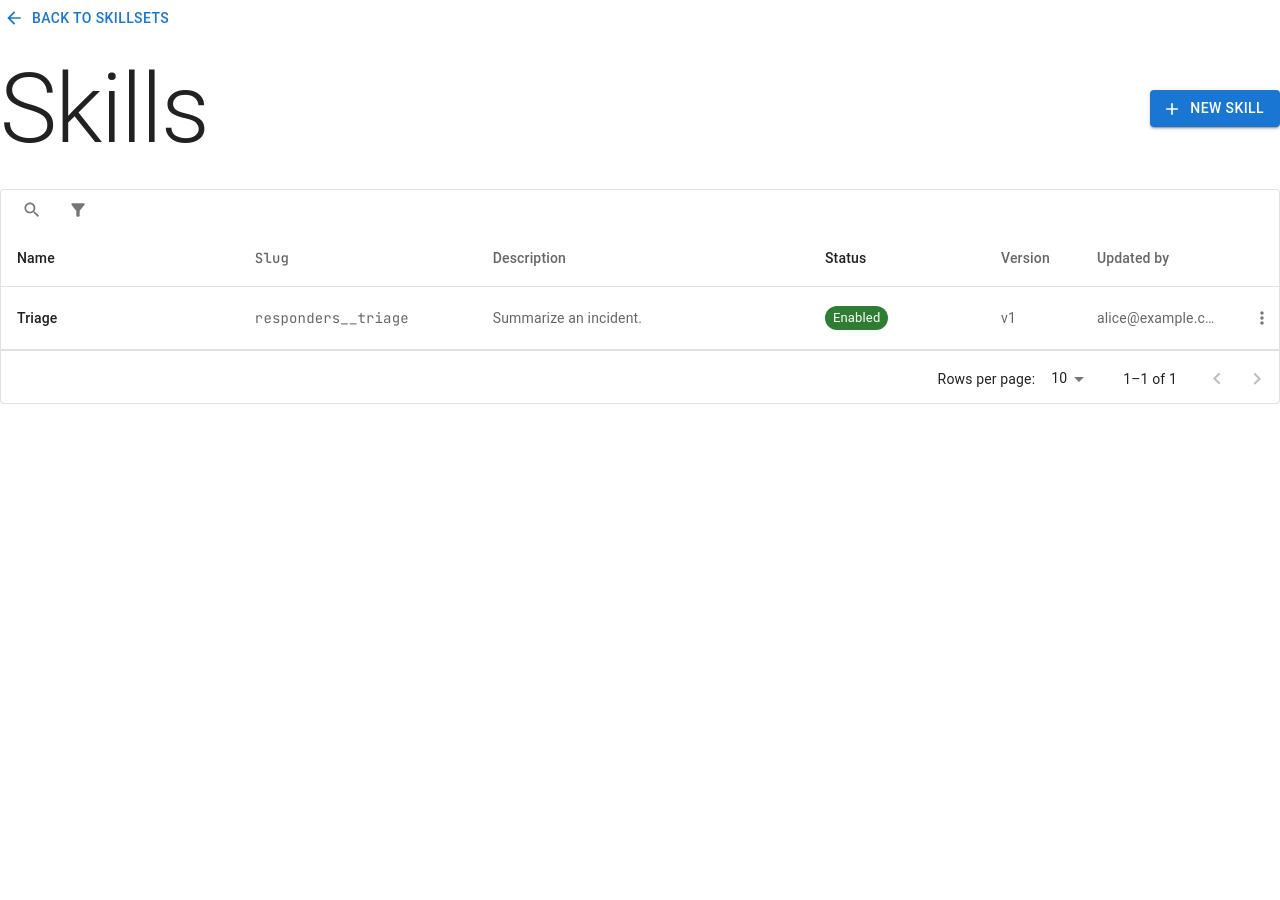
Scenario: SkillsetSkills › switches an edited skill template to raw markdown source
Click the button named "more actions".
click(1262, 318)  # box [1247,302,1277,332]
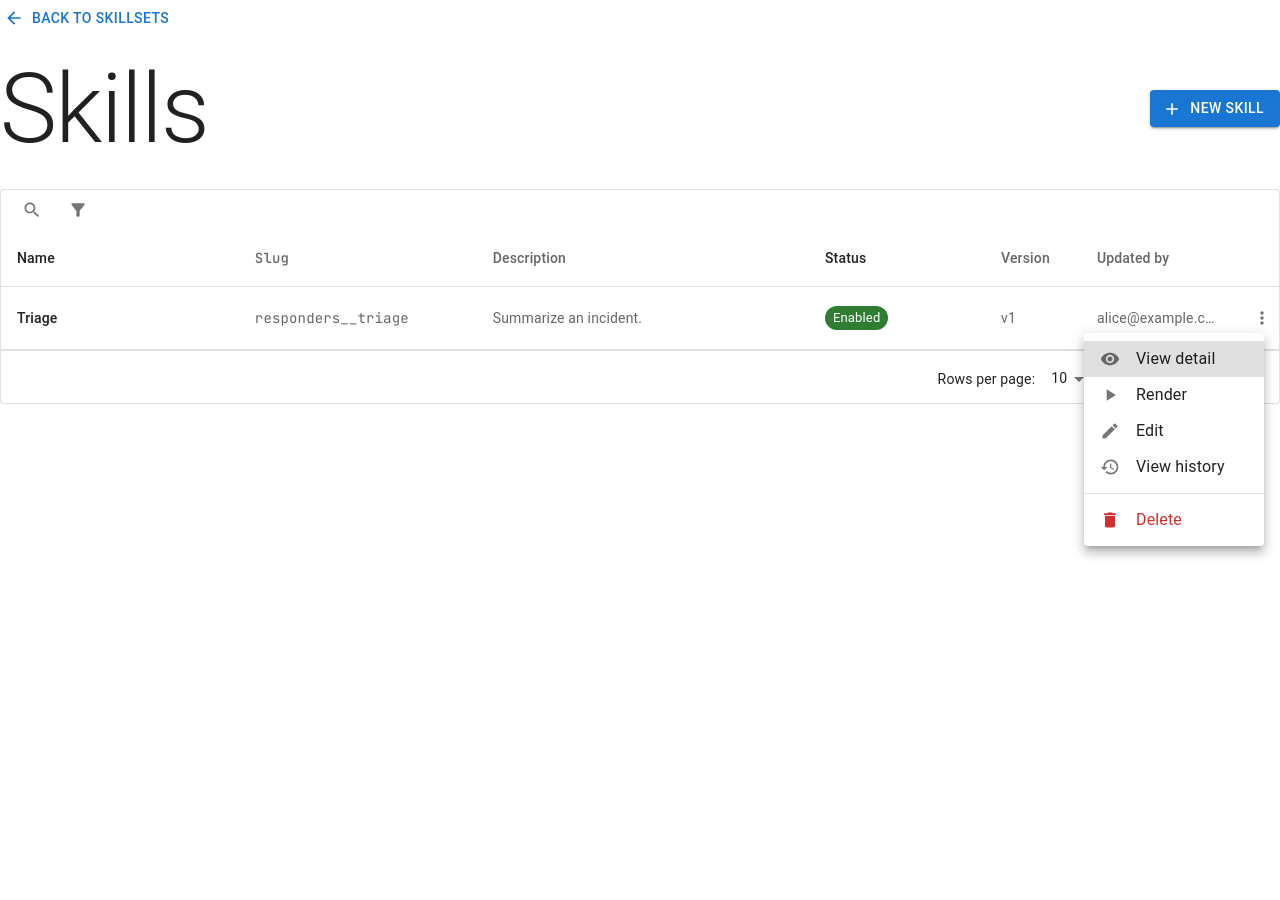
Click the menu item "Edit".
click(1110, 431)  # box [1100,421,1164,441]
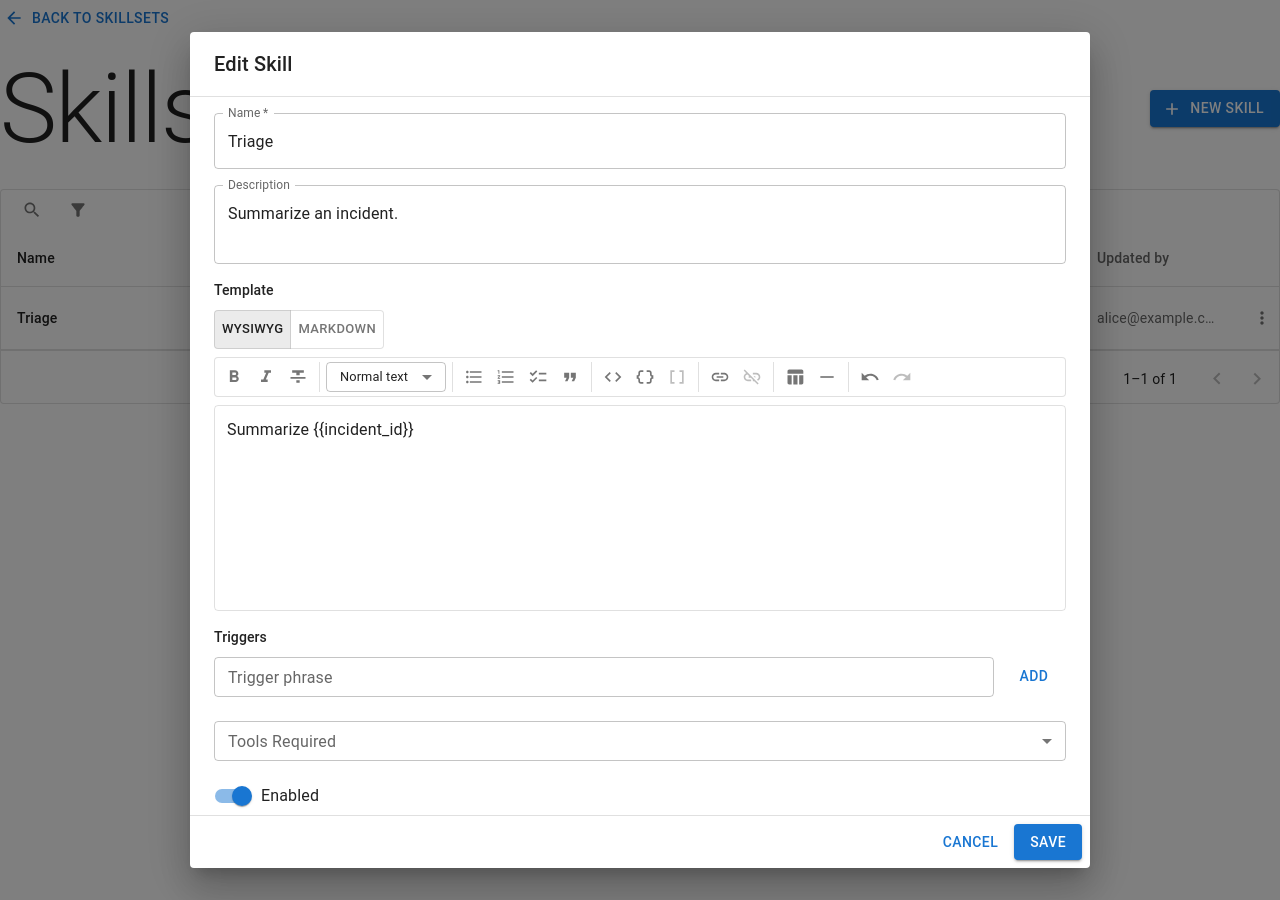
Click the button with aria-label "Markdown source".
click(337, 329)  # box [290,310,384,349]
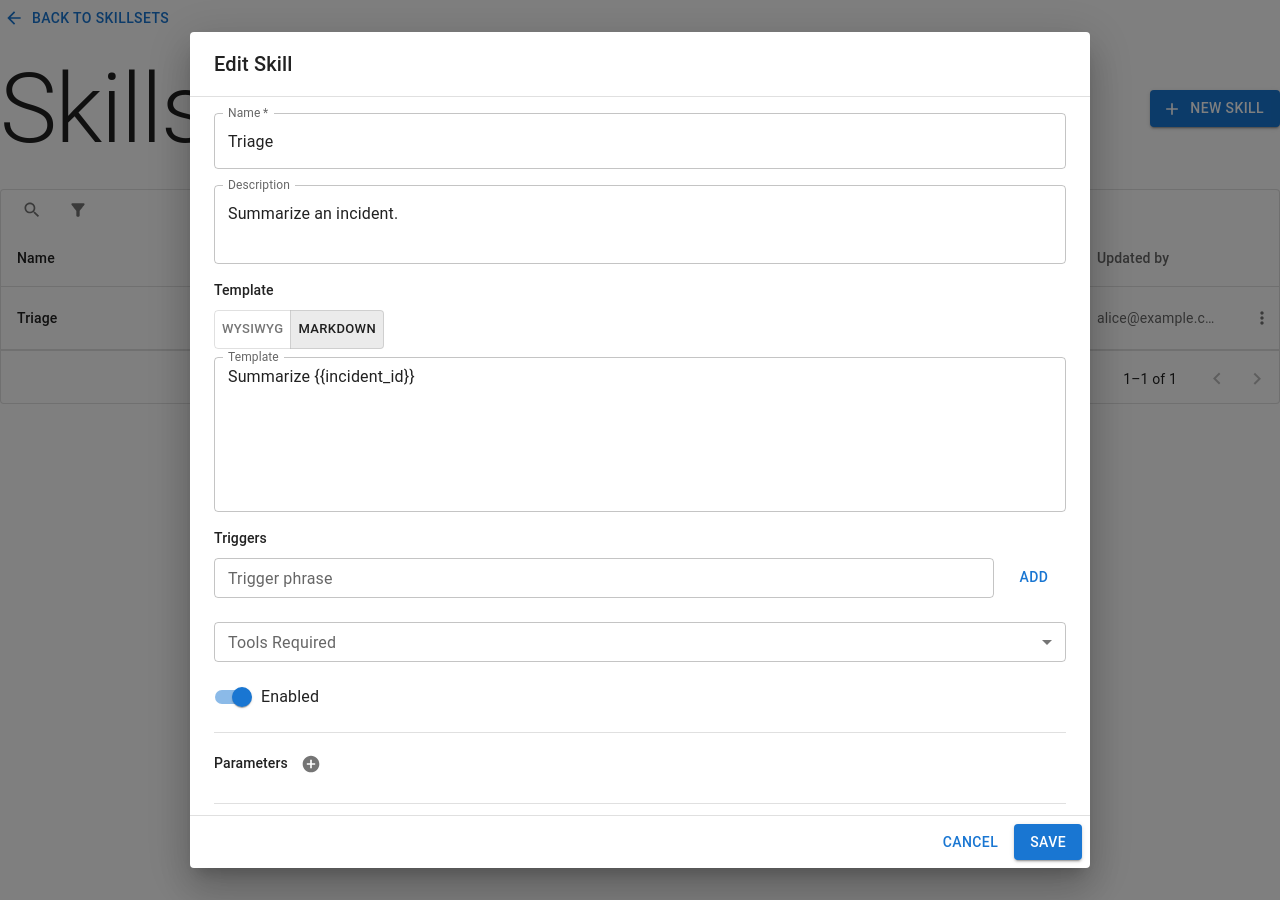
Expected: the text box labelled "Template" holds "Summarize {{incident_id}}", [228,365,1052,503]
